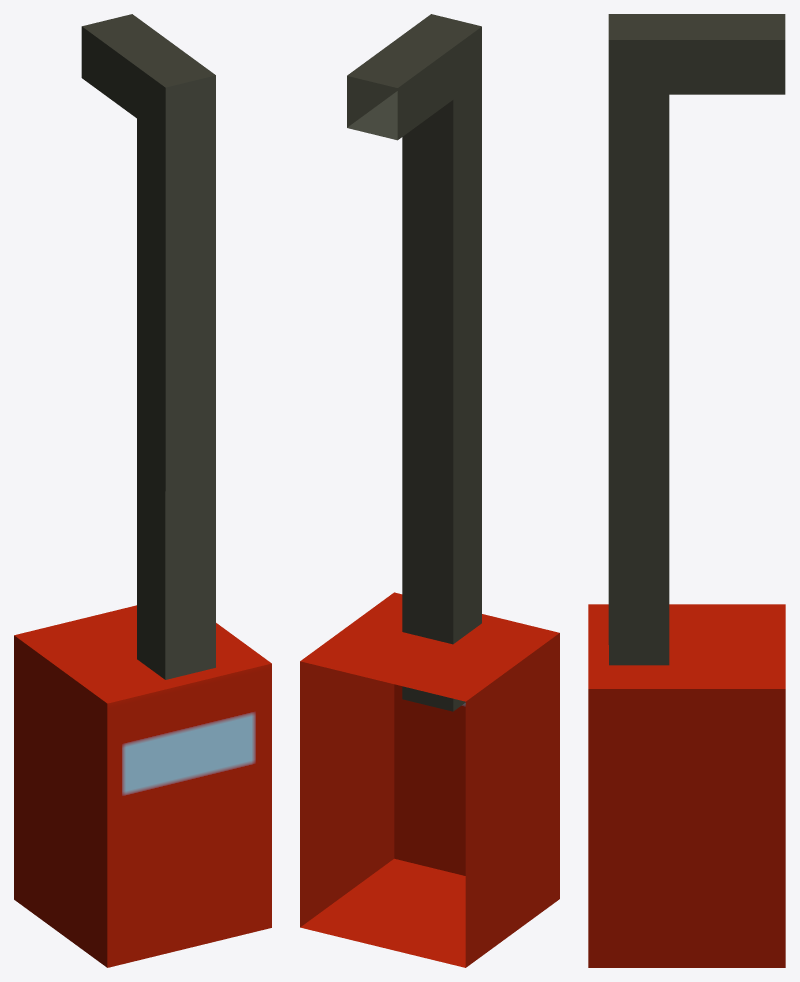
Rendered from SM_PowerBox_04.fbx.
3 views of the same model, side by side, from view 1: azimuth 30°, elevation 25°; view 2: azimuth 150°, elevation 25°; view 3: azimuth 270°, elevation 25° (orthographic). The views are drawn at different scales.
Visible parts, largest first — view 1: SM_PowerBox_04; view 2: SM_PowerBox_04; view 3: SM_PowerBox_04.
Boxes of the visible parts, x1,y1,x2,y2 form: SM_PowerBox_04: (14,14,271,967); SM_PowerBox_04: (300,14,559,967); SM_PowerBox_04: (588,14,785,967).
Size of the model in its own units: 0.3573 by 1.78 by 0.3515.
